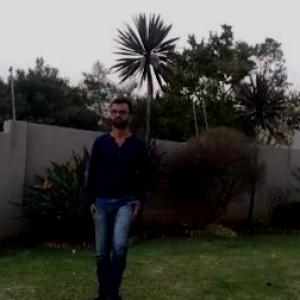follow: (76, 86, 155, 299)
